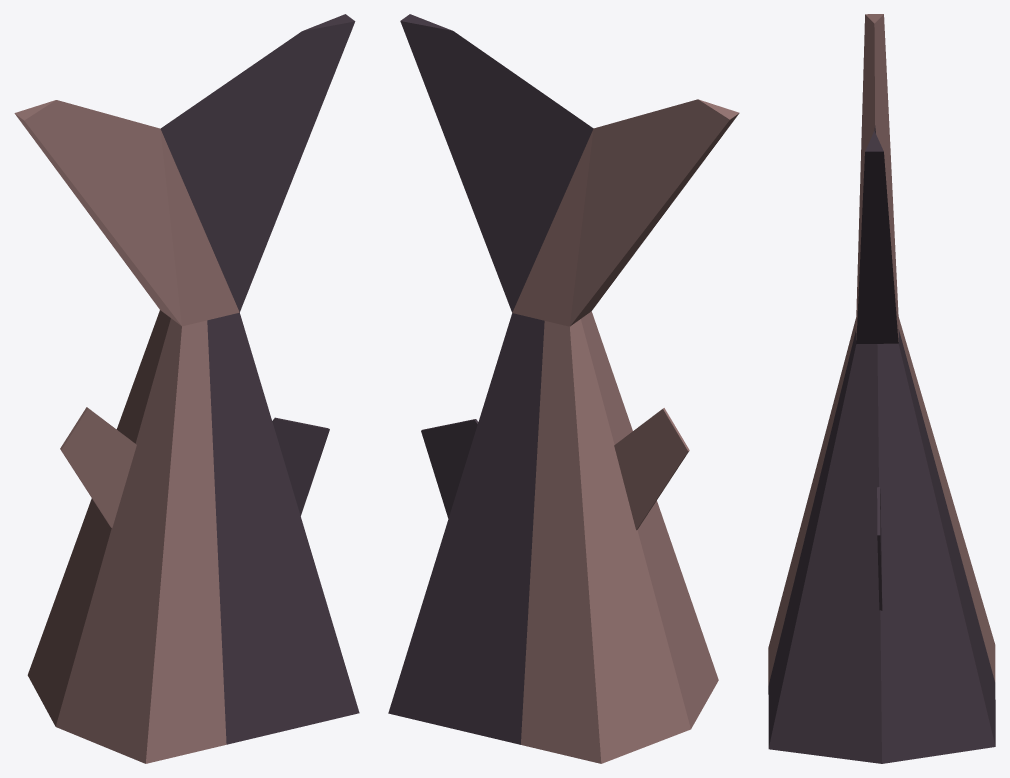
The model's file is salmonTail.fbx.
3 renders of one model, left to right at view 1: azimuth 30°, elevation 25°; view 2: azimuth 150°, elevation 25°; view 3: azimuth 270°, elevation 25°, orthographic. The views are drawn at different scales.
Parts seen in each view (by area): view 1: salmonTail; view 2: salmonTail; view 3: salmonTail.
Boxes of the visible parts, bbox=[...] form: salmonTail: bbox=[14, 14, 359, 763]; salmonTail: bbox=[388, 14, 739, 763]; salmonTail: bbox=[768, 14, 995, 763].
Bounding box in the file's own units: 18.58 × 34.53 × 11.48.
Materials: 1 (1 with a texture image).
